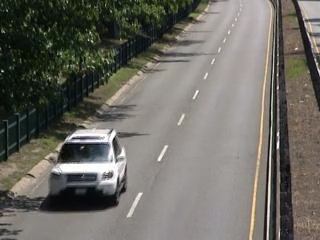car: (41, 125, 140, 208)
